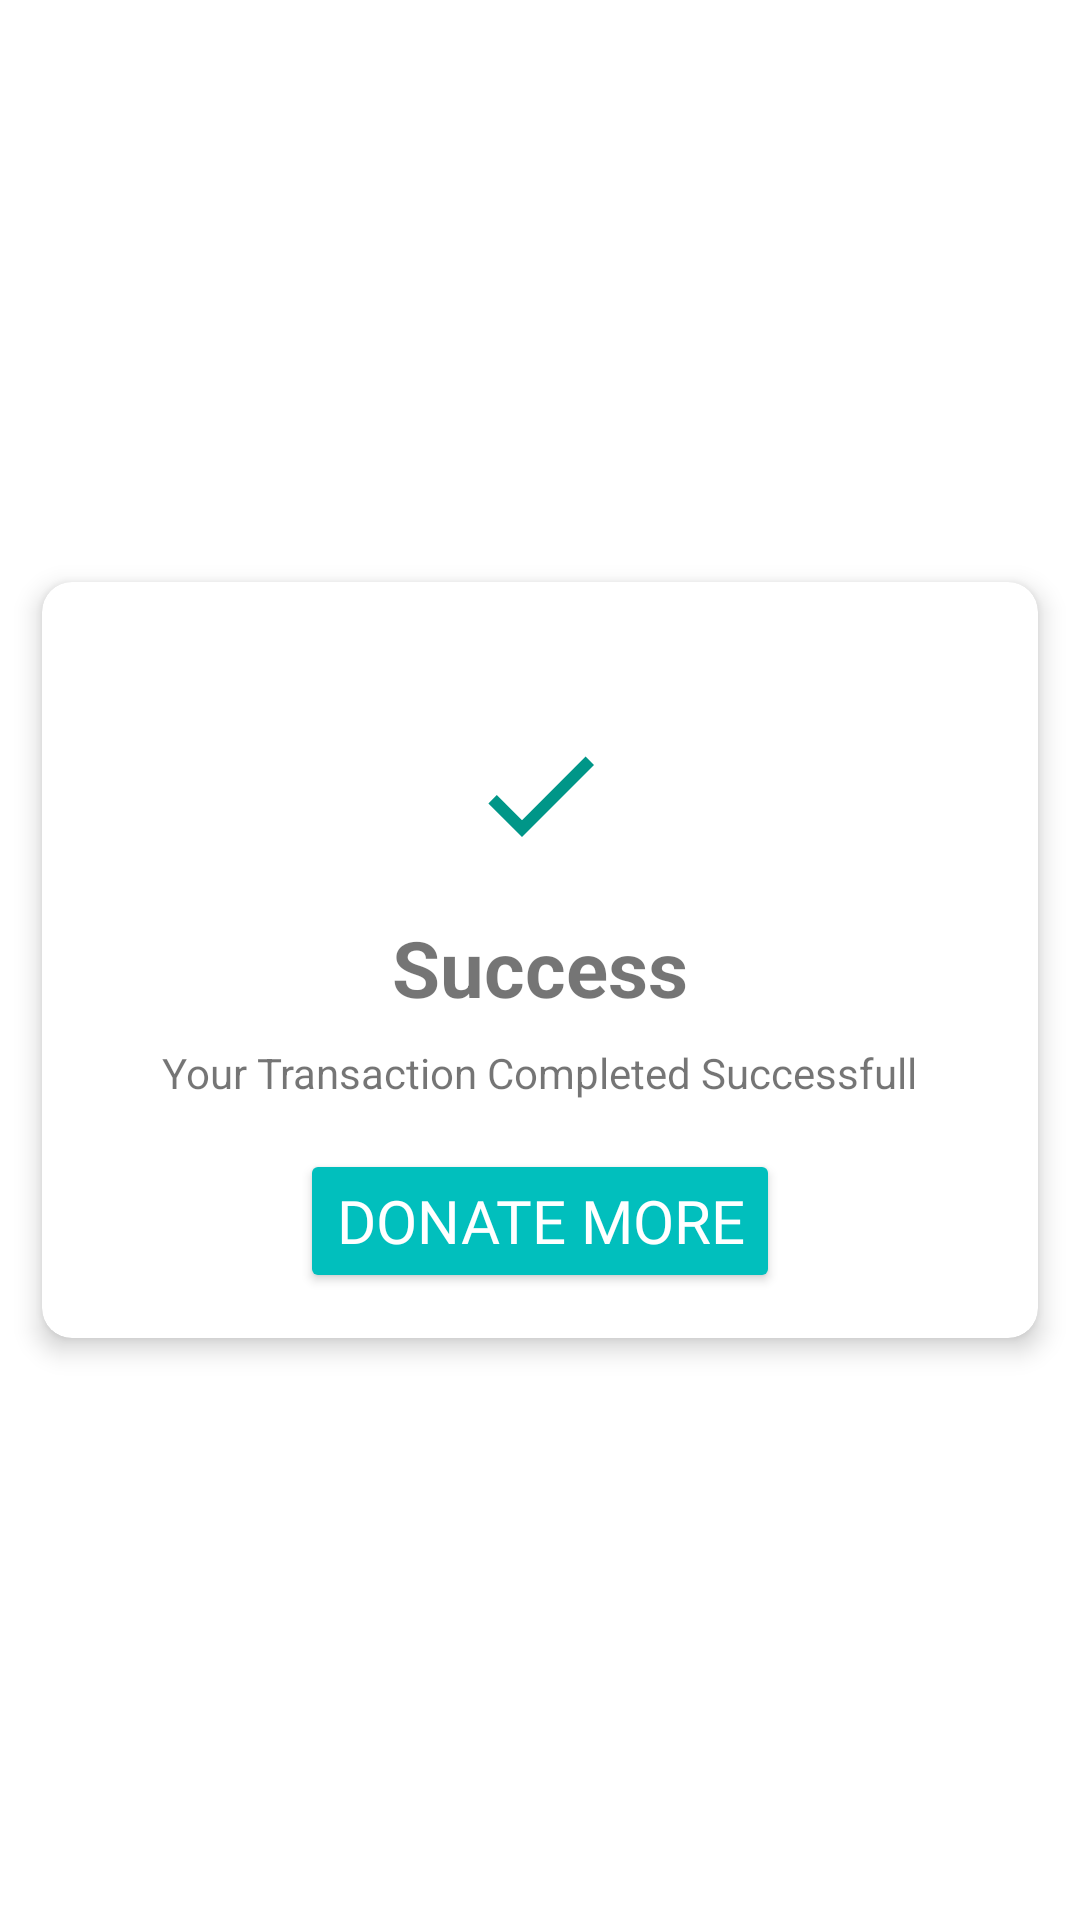

Named icons in this screenshot (1080x1920) and their centers, (x,y):
payment done: (541,796)
